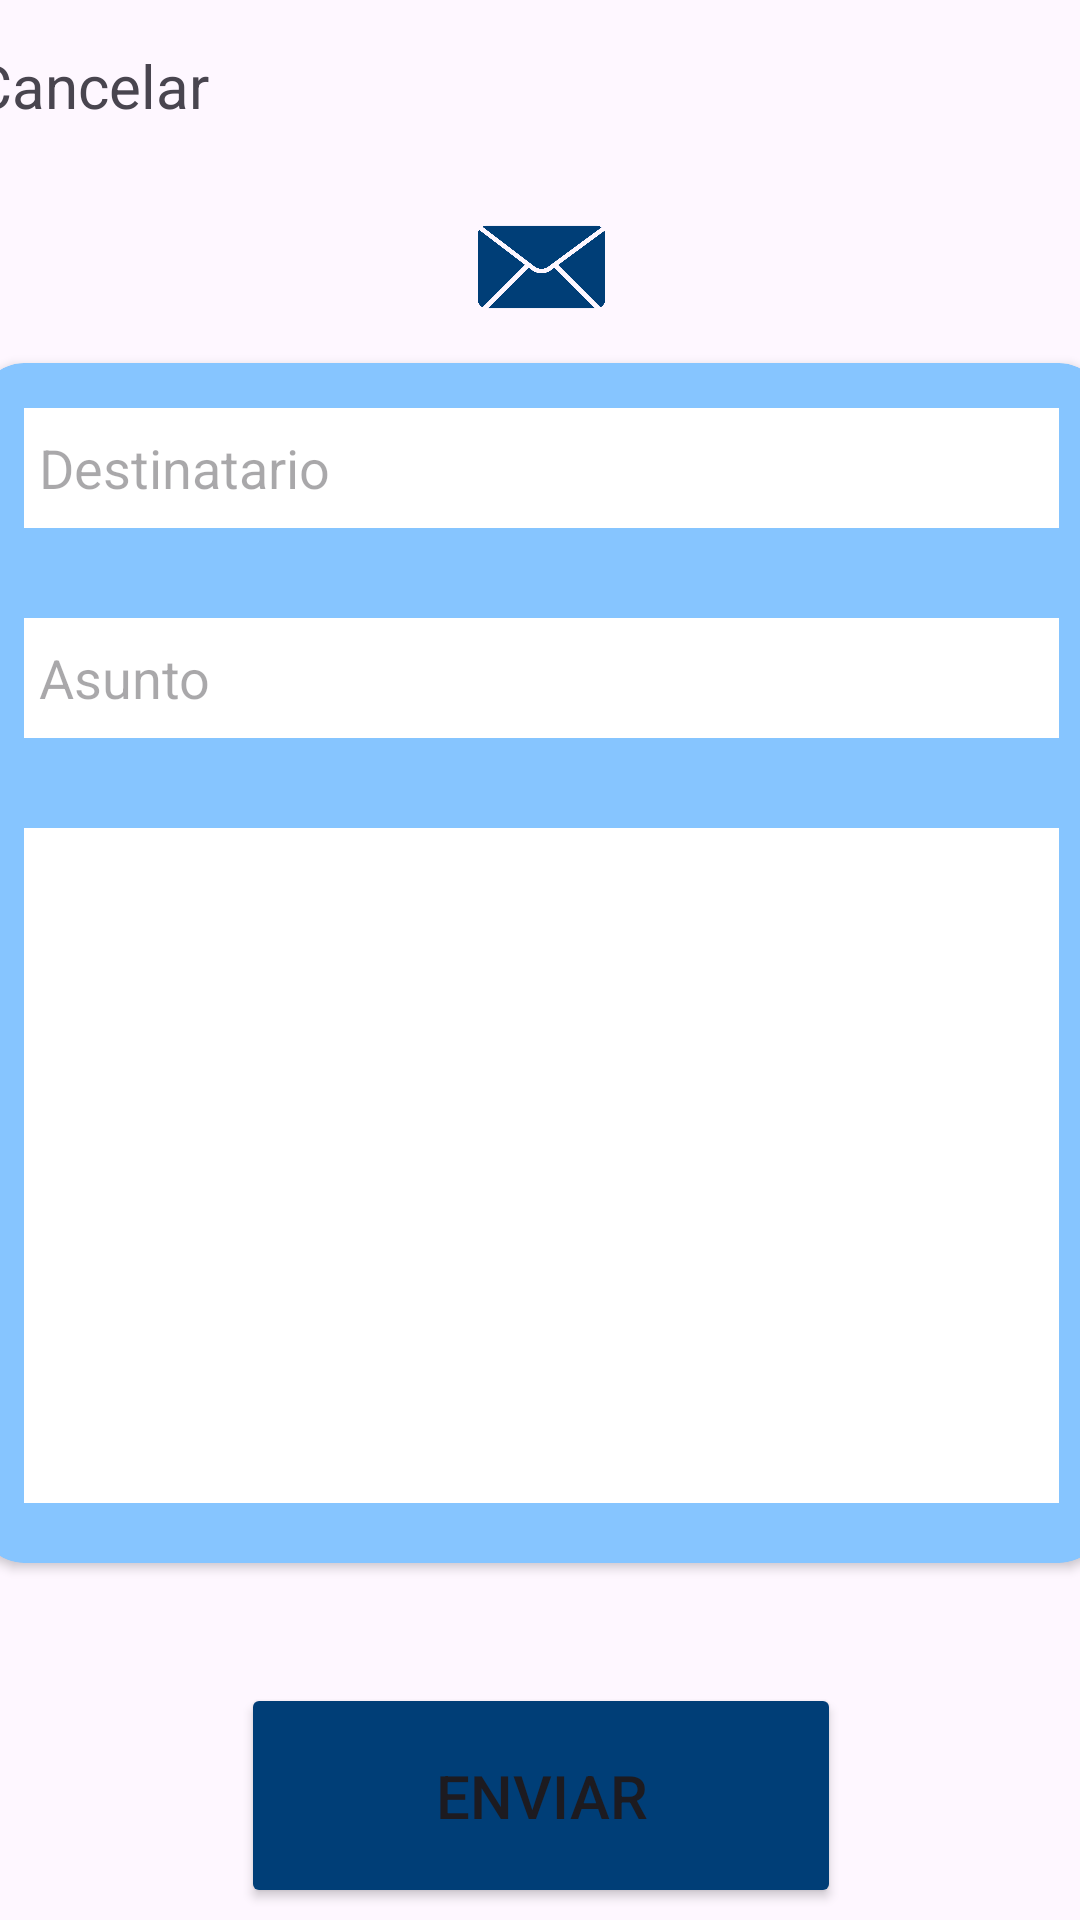

Icons on this 1080px x 1920px Android screen, each with its box as {"left": x1, "top": y1, "right": x2, "bottom": y2}:
correo: {"left": 478, "top": 226, "right": 605, "bottom": 308}
